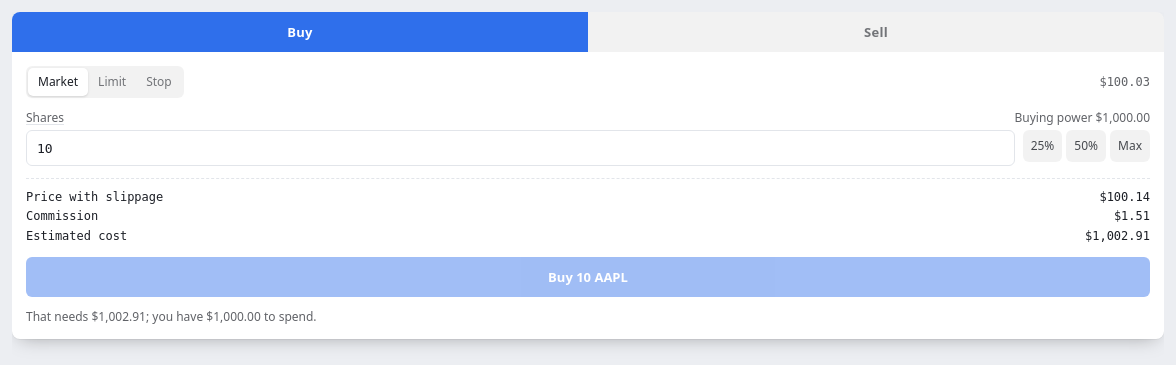
Test: Ticket › Max buys as many whole shares as the buying power covers after costs
The image size is (1176, 365).
Click the button "Max": (1130, 146) [1110,130,1150,162]
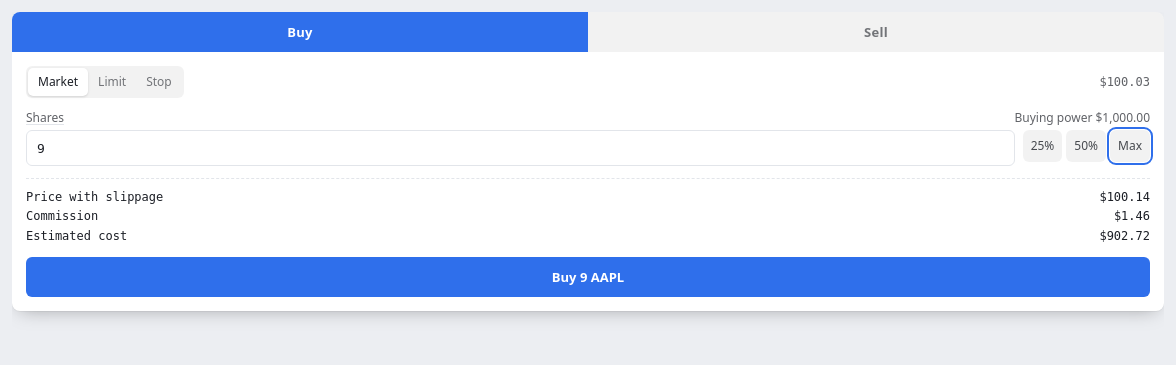
Check: the field named "Shares" holds "9", box [26,130,1015,166]
